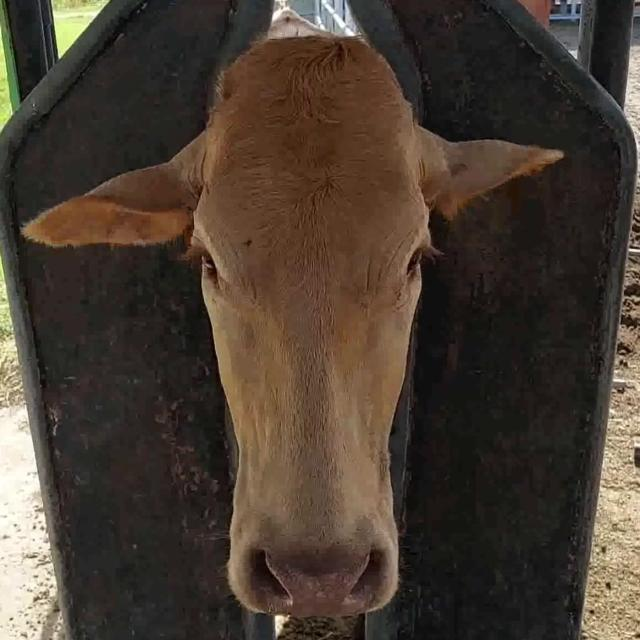cowFace: (194, 36, 435, 619)
